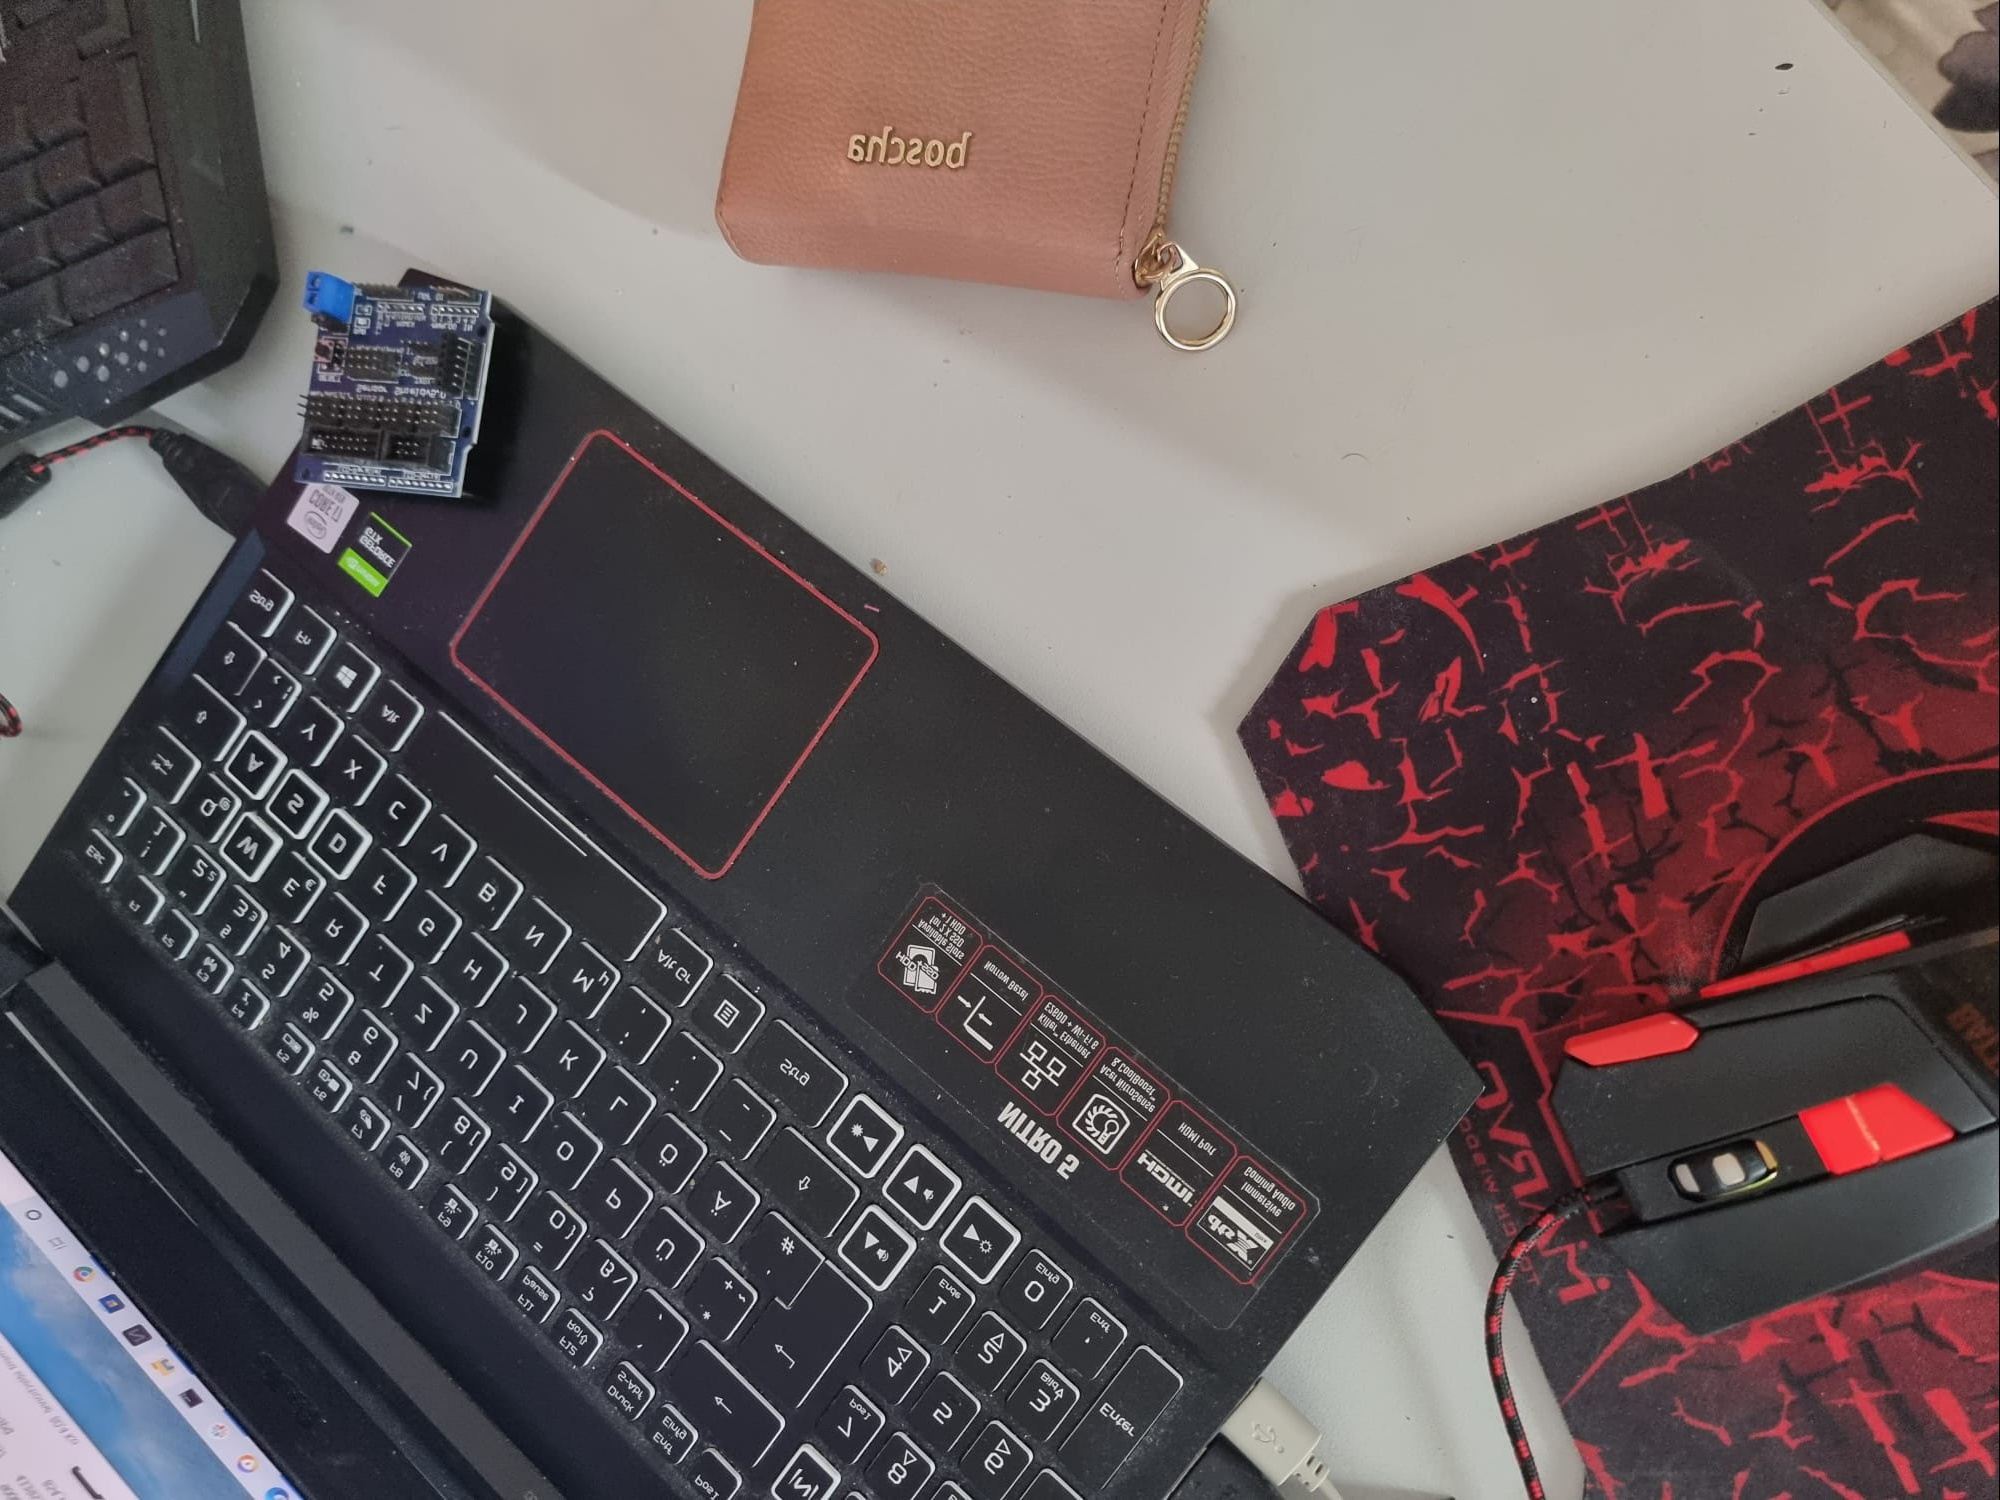5V EXPANSION: (294, 266, 513, 501)
